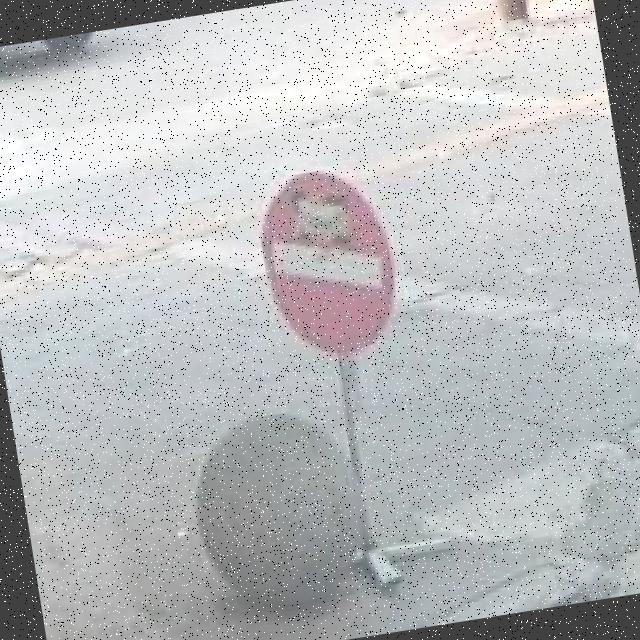Zakaz wjazdu: (252, 157, 411, 366)
